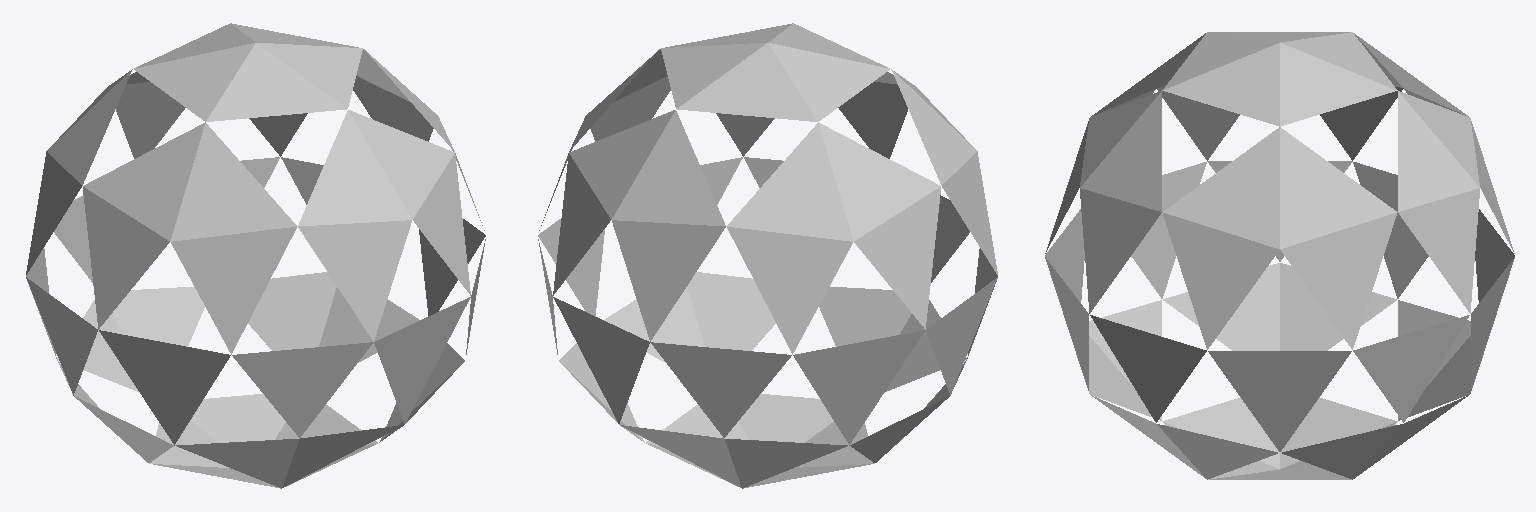
File: holes.obj
3 renders of one model, left to right at view 1: azimuth 30°, elevation 25°; view 2: azimuth 150°, elevation 25°; view 3: azimuth 270°, elevation 25°, orthographic.
Size of the model in its own units: 7.28 by 7.66 by 7.66.